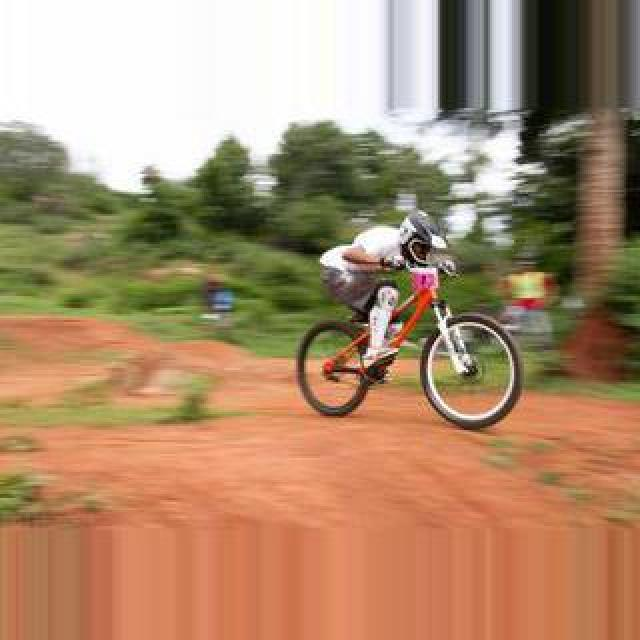MC-Bike: (304, 212, 510, 426)
Person: (295, 270, 527, 428)
